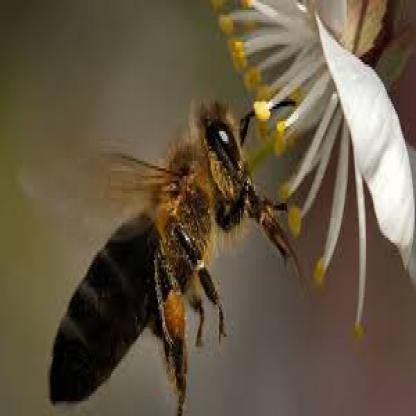other: (30, 96, 300, 396)
